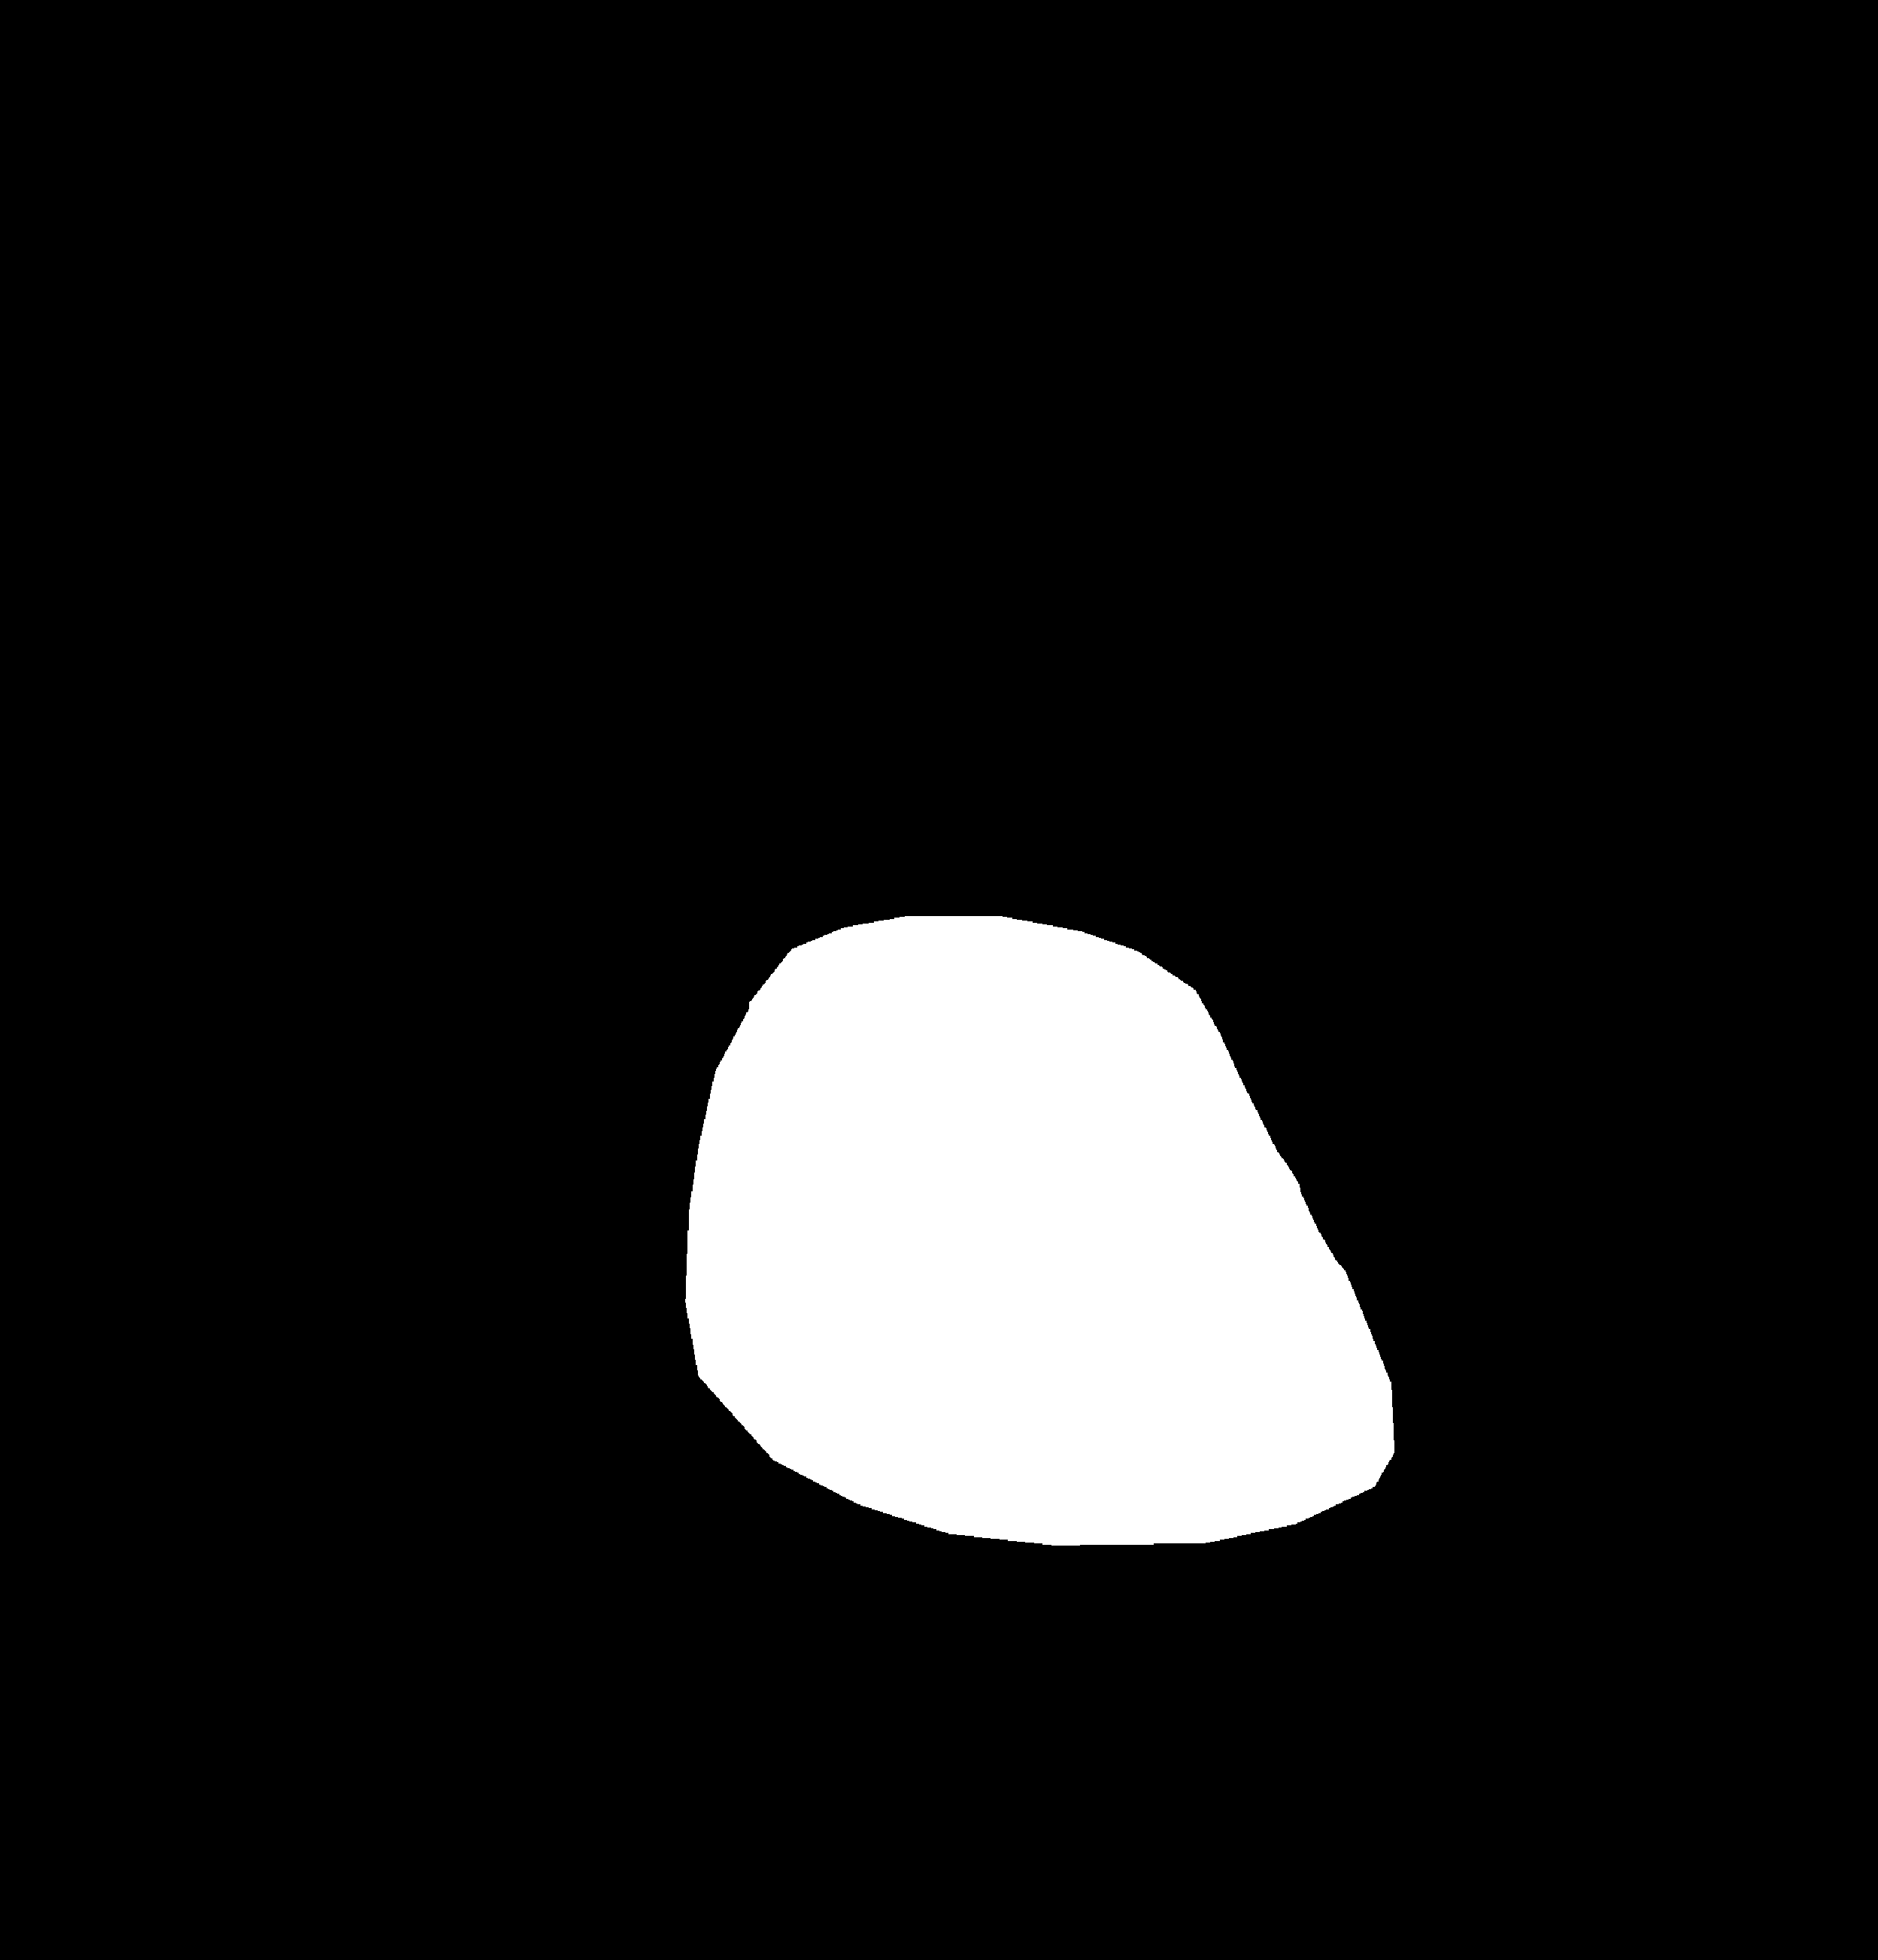heart: (690, 966, 1407, 1561)
left_lung: (249, 311, 861, 1584)
right_lung: (1078, 294, 1619, 1650)
